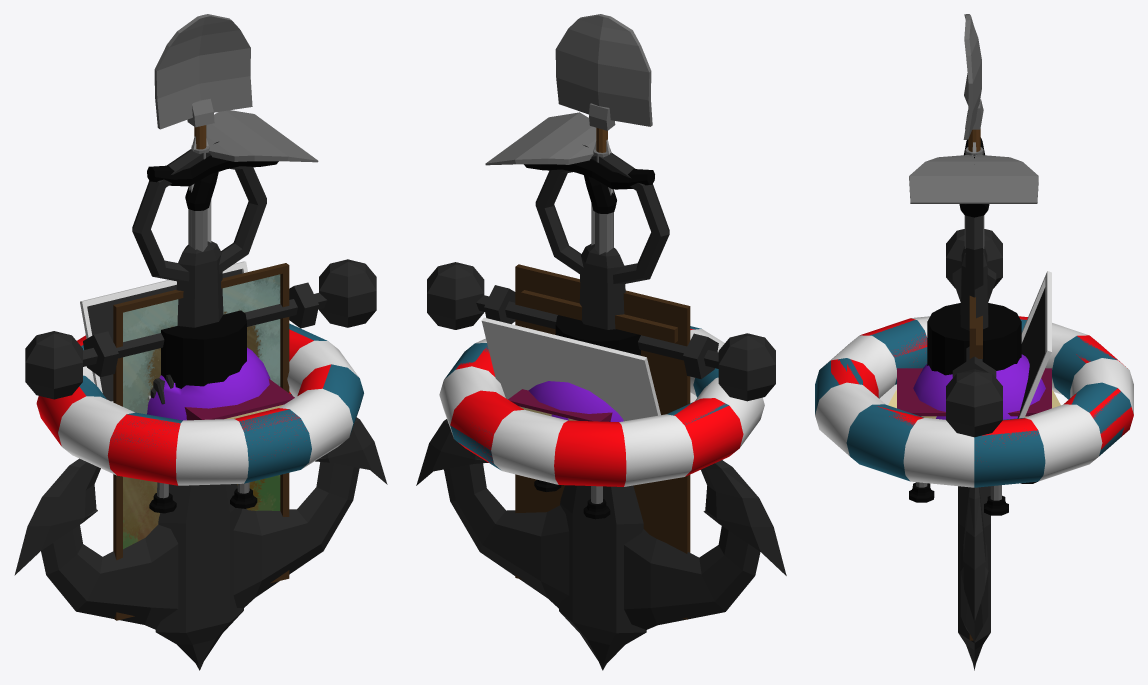
The model's file is Game Jam Objects.fbx.
The picture shows the model from 3 angles, left to right: view 1: azimuth 30°, elevation 25°; view 2: azimuth 150°, elevation 25°; view 3: azimuth 270°, elevation 25°; orthographic projection.
Parts seen in each view (by area): view 1: Ancora, Boia Vermelha, Quadro, Boia Azul, Pá, Cartola, Bengala, Enxada, Bola de Boliche Roxo, Notebook, Livro Rosa; view 2: Ancora, Boia Vermelha, Quadro, Notebook, Pá, Bengala, Enxada, Boia Azul, Bola de Boliche Roxo, Cartola, Livro Rosa; view 3: Boia Azul, Ancora, Boia Vermelha, Enxada, Cartola, Notebook, Bola de Boliche Roxo, Pá, Livro Rosa, Bengala, Quadro.
Part boxes in pixels (<box>): Ancora: <box>14,149,387,670</box>; Boia Vermelha: <box>36,329,331,485</box>; Quadro: <box>113,263,289,620</box>; Boia Azul: <box>79,323,363,485</box>; Pá: <box>154,14,252,149</box>; Cartola: <box>161,310,246,388</box>; Bengala: <box>147,141,278,513</box>; Enxada: <box>191,110,318,162</box>; Bola de Boliche Roxo: <box>147,347,270,420</box>; Notebook: <box>80,261,247,401</box>; Livro Rosa: <box>184,378,294,420</box>; Ancora: <box>416,152,786,670</box>; Boia Vermelha: <box>450,329,764,486</box>; Quadro: <box>515,264,690,619</box>; Notebook: <box>481,317,696,421</box>; Pá: <box>555,14,652,152</box>; Bengala: <box>524,145,654,519</box>; Enxada: <box>485,112,611,165</box>; Boia Azul: <box>439,326,734,484</box>; Bola de Boliche Roxo: <box>528,381,623,421</box>; Cartola: <box>555,315,640,355</box>; Livro Rosa: <box>508,389,612,421</box>; Boia Azul: <box>815,318,1131,487</box>; Ancora: <box>946,154,1002,670</box>; Boia Vermelha: <box>819,316,1133,481</box>; Enxada: <box>909,147,1038,203</box>; Cartola: <box>927,303,1021,375</box>; Notebook: <box>879,271,1051,418</box>; Bola de Boliche Roxo: <box>913,354,1045,419</box>; Pá: <box>963,14,983,151</box>; Livro Rosa: <box>897,368,1051,418</box>; Bengala: <box>909,137,1037,515</box>; Quadro: <box>969,296,982,640</box>.
Bounding box in the file's own units: 0.9645 × 1.62 × 0.7174.
